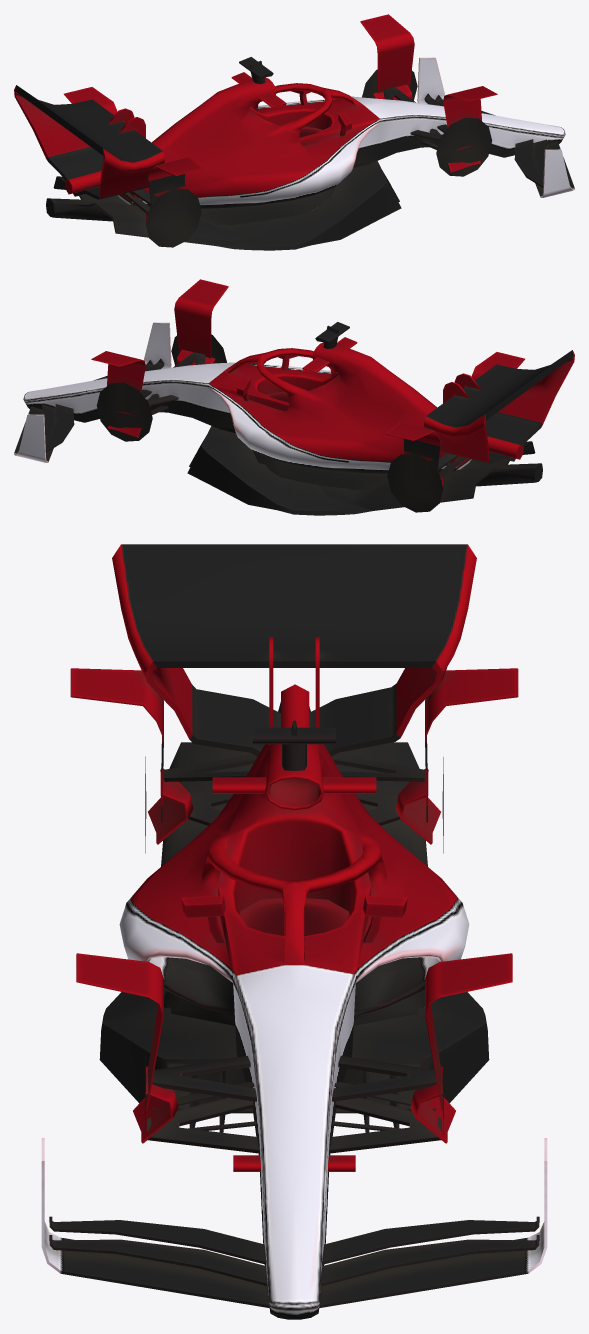
File: f1_car_14.dae
3 views of the same model, one above another, from view 1: azimuth 30°, elevation 25°; view 2: azimuth 150°, elevation 25°; view 3: azimuth 270°, elevation 25° (orthographic). The views are drawn at different scales.
Parts seen in each view (by area): view 1: F1_Car; view 2: F1_Car; view 3: F1_Car.
Boxes of the visible parts, x1,y1,x2,y2 form: F1_Car: (14, 14, 574, 250); F1_Car: (14, 279, 574, 515); F1_Car: (41, 544, 547, 1319).
Size of the model in its own units: 34.44 by 14.7 by 9.69.
Materials: 1 (1 with a texture image).
